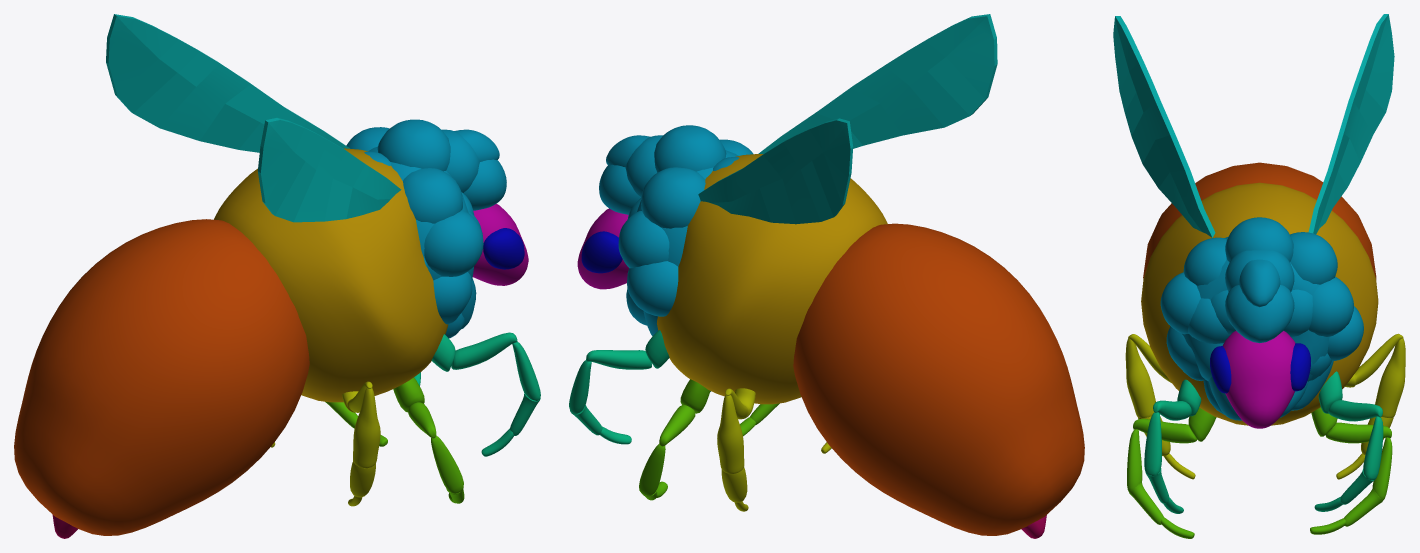
Rendered from TheBee_Blockout_exp.fbx.
3 views of the same model, side by side, from view 1: azimuth 30°, elevation 25°; view 2: azimuth 150°, elevation 25°; view 3: azimuth 270°, elevation 25° (orthographic). The views are drawn at different scales.
Parts seen in each view (by area): view 1: BackBody1, Frontbody, TheWings, Kraag1, FrontLegs1, Backlegs, MiddleLegs, Hoofd, Ogen; view 2: BackBody1, Frontbody, TheWings, Kraag1, FrontLegs1, Backlegs, MiddleLegs, Hoofd, Ogen; view 3: Kraag1, Frontbody, TheWings, MiddleLegs, FrontLegs1, Hoofd, Backlegs, BackBody1, Ogen.
Part boxes in pixels (x1,y1,x2,y2): BackBody1: (14, 219, 309, 535); Frontbody: (214, 148, 448, 402); TheWings: (106, 14, 401, 222); Kraag1: (346, 119, 506, 338); FrontLegs1: (414, 332, 540, 456); Backlegs: (271, 381, 380, 506); MiddleLegs: (325, 377, 464, 503); Hoofd: (472, 204, 528, 285); Ogen: (483, 228, 524, 269); BackBody1: (793, 223, 1084, 535); Frontbody: (657, 154, 887, 404); TheWings: (698, 14, 997, 224); Kraag1: (599, 125, 753, 335); FrontLegs1: (569, 330, 710, 444); Backlegs: (717, 388, 831, 511); MiddleLegs: (639, 379, 779, 500); Hoofd: (577, 208, 628, 289); Ogen: (581, 231, 622, 273); Kraag1: (1160, 217, 1363, 420); Frontbody: (1141, 182, 1378, 425); TheWings: (1113, 14, 1394, 237); MiddleLegs: (1127, 407, 1392, 538); FrontLegs1: (1144, 371, 1383, 513); Hoofd: (1222, 331, 1295, 428); Backlegs: (1125, 333, 1405, 479); BackBody1: (1143, 162, 1376, 279); Ogen: (1210, 343, 1310, 393).
Bounding box in the file's own units: 0.1638 × 0.1464 × 0.0921.
